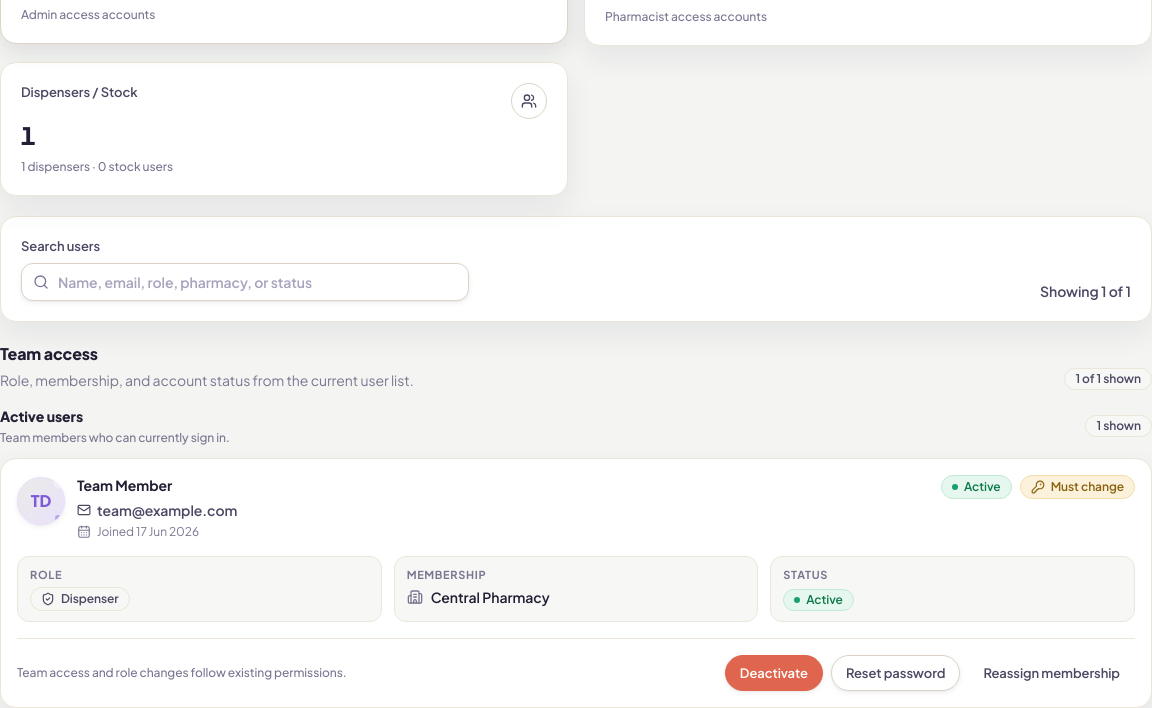
Test: UsersScreen › renders reset password backend errors inline
(page scrolled)
Check: the text "team@example.com" is shown, box x1=77 y1=500 x2=237 y2=520
Click the button "Reset password" at (896, 673), box x1=831 y1=655 x2=960 y2=691
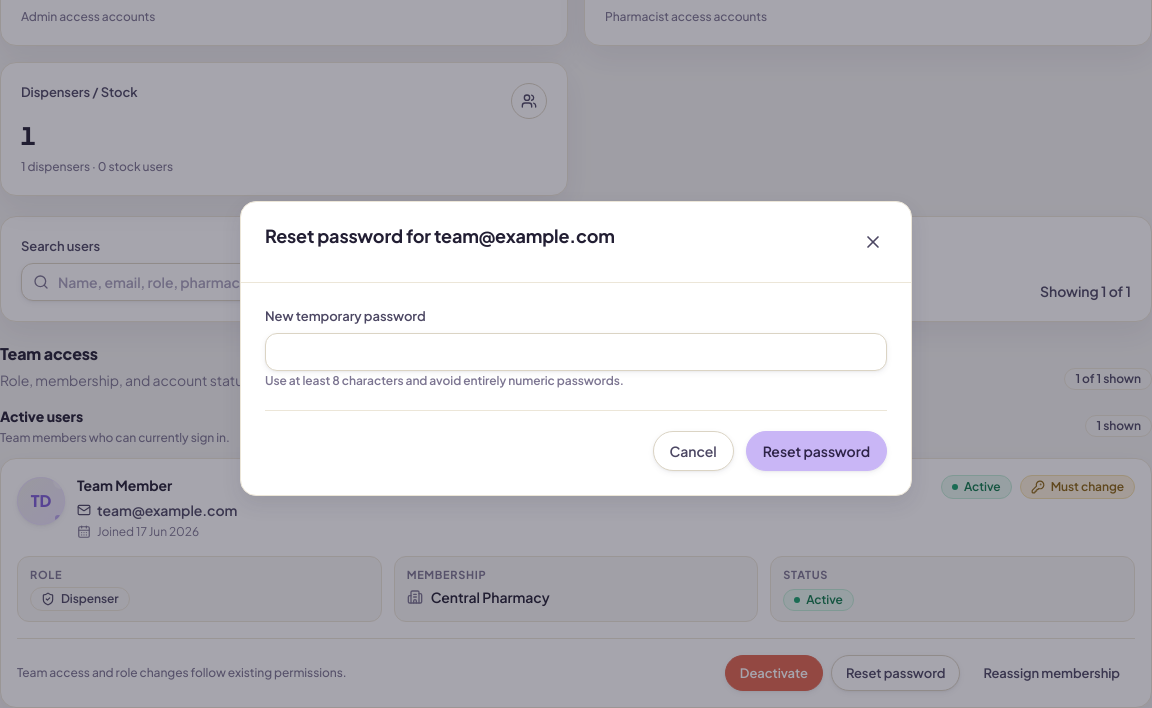
Type "weak" into the password field labelled "New temporary password" at (576, 351), box x1=265 y1=332 x2=887 y2=370
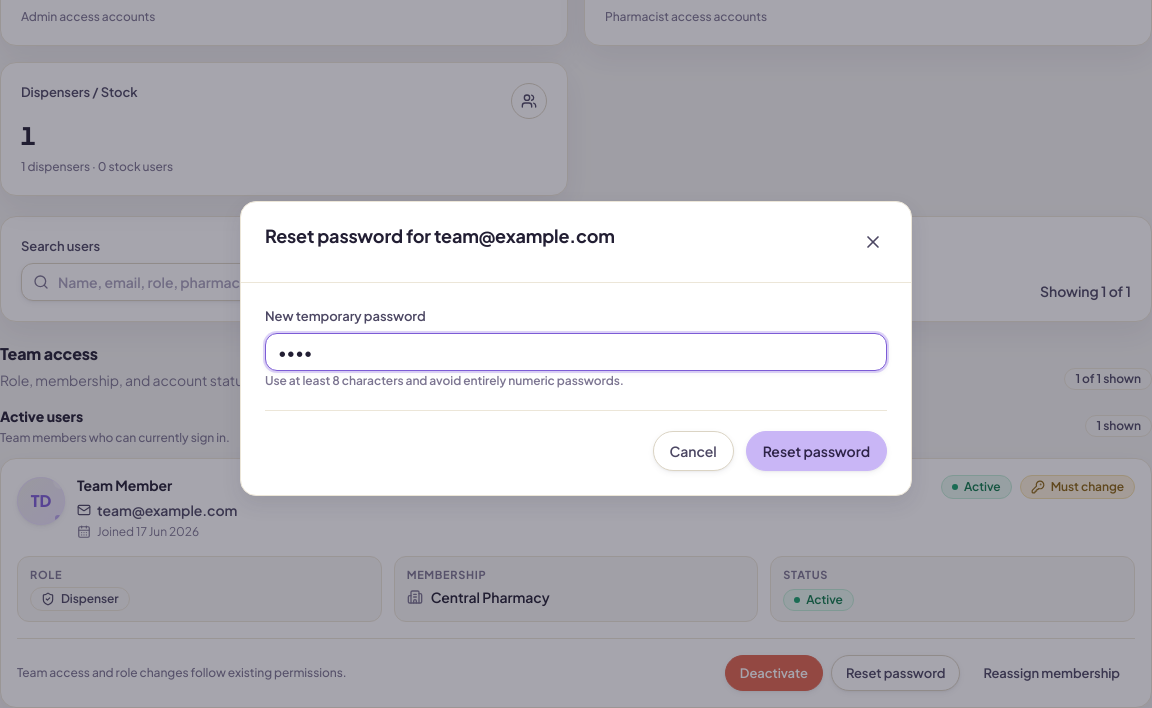
Click the button "Reset password" at (816, 450), box x1=746 y1=430 x2=887 y2=470
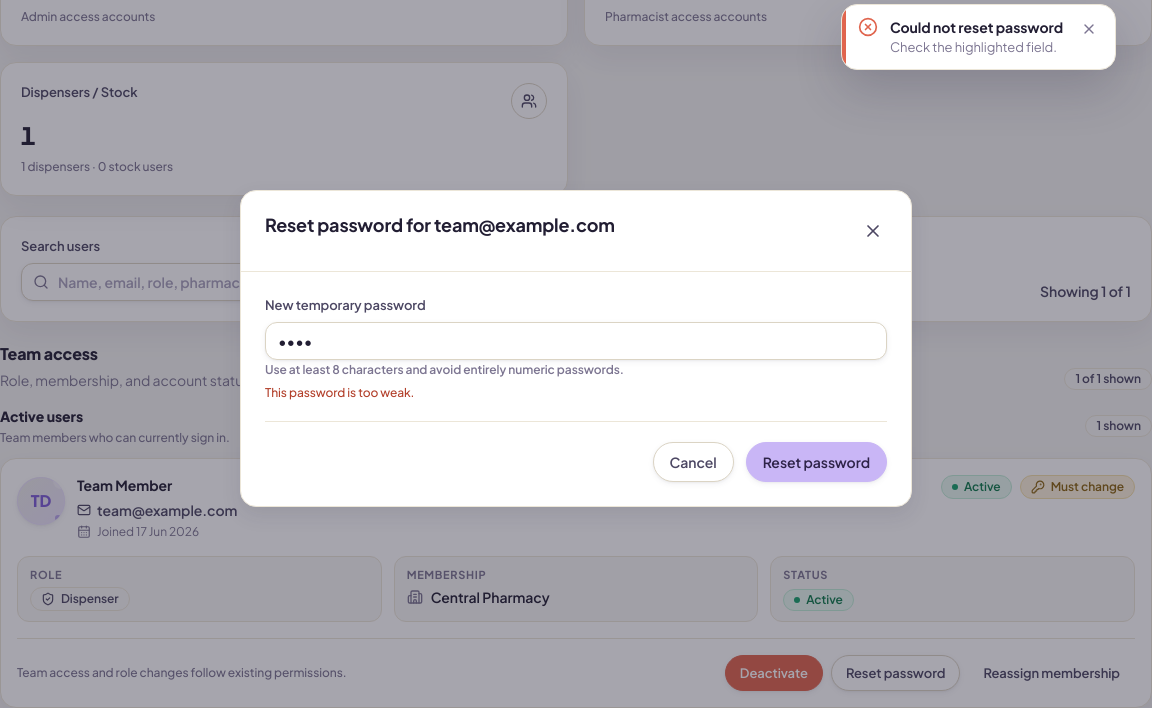
Check: the list item "This password is too weak." is shown, box x1=265 y1=384 x2=414 y2=400
